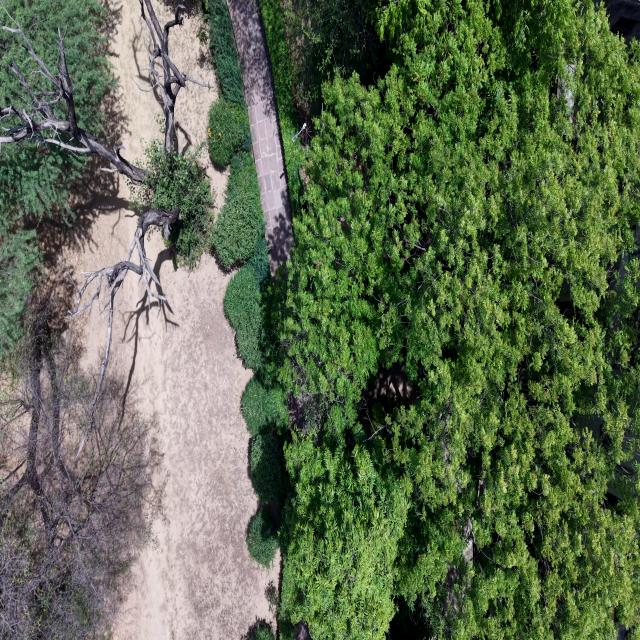DRY_AREA: (109, 234, 278, 639), (228, 0, 292, 271)
VEGETATION_TREE: (281, 0, 639, 639), (0, 0, 270, 638), (0, 0, 211, 639), (0, 3, 210, 637), (0, 0, 212, 424), (0, 299, 162, 639), (209, 0, 288, 566), (260, 0, 388, 211), (281, 435, 410, 638), (0, 142, 87, 358), (208, 0, 268, 273), (4, 0, 114, 133), (275, 0, 385, 117), (242, 341, 289, 566), (136, 141, 213, 267), (242, 366, 290, 566), (260, 0, 304, 211), (212, 152, 264, 268), (0, 219, 41, 358), (260, 0, 298, 143), (224, 267, 263, 370), (207, 0, 244, 104), (208, 98, 251, 168), (241, 377, 288, 436), (250, 432, 283, 502), (247, 508, 278, 567), (227, 148, 259, 205), (246, 235, 270, 289), (265, 581, 280, 615), (250, 621, 275, 639), (255, 625, 275, 639)
